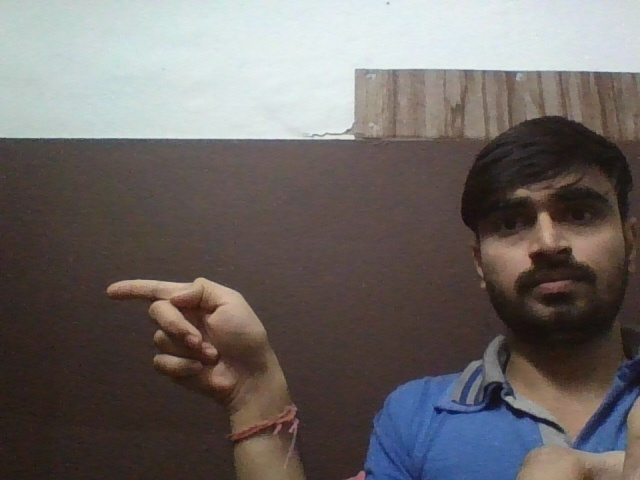G: (98, 277, 279, 398)
